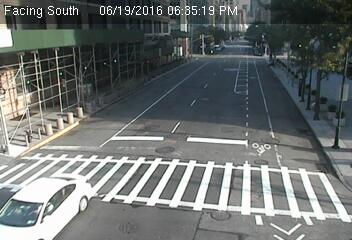neg: (89, 157, 110, 186), (154, 102, 174, 128), (245, 135, 265, 161), (8, 93, 26, 117), (197, 127, 214, 150), (55, 154, 72, 177), (309, 85, 326, 107), (11, 191, 28, 213), (307, 173, 323, 195), (37, 49, 53, 71), (233, 45, 249, 66), (38, 120, 54, 141), (127, 171, 143, 192), (76, 198, 92, 219), (205, 83, 220, 104), (271, 80, 286, 100), (212, 205, 227, 225), (320, 136, 335, 156), (161, 44, 175, 63), (80, 76, 94, 94), (267, 183, 281, 200), (40, 198, 54, 215), (69, 105, 82, 123), (104, 49, 117, 66)
